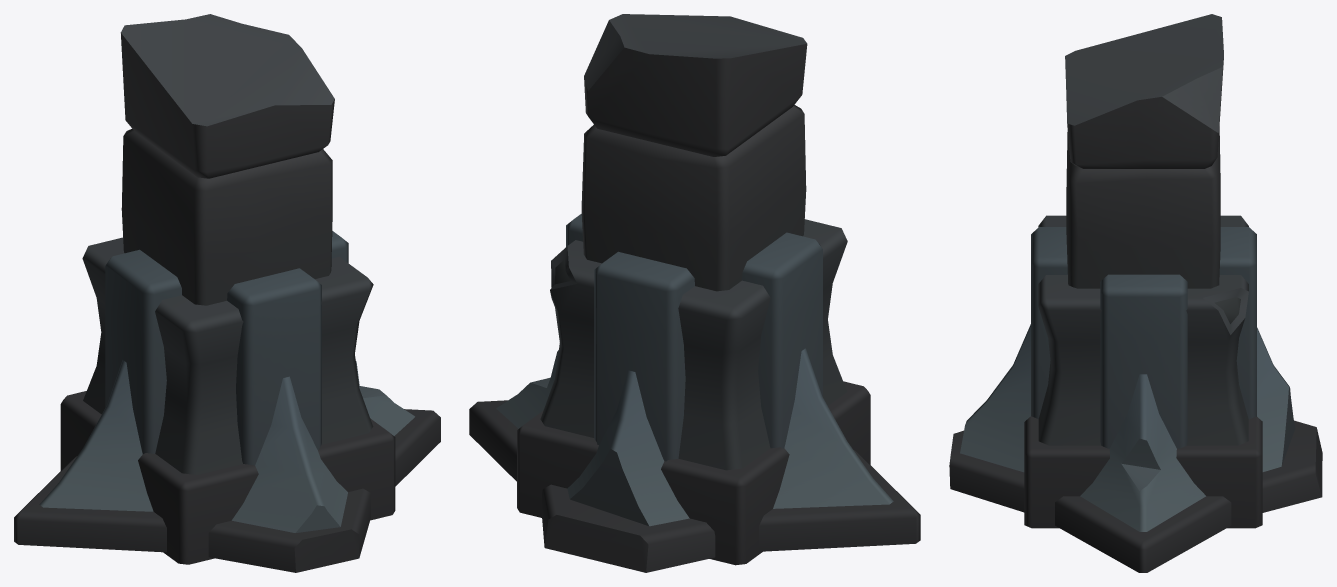
File: inferno-column-big-broken-001.glb
3 views of the same model, side by side, from view 1: azimuth 30°, elevation 25°; view 2: azimuth 150°, elevation 25°; view 3: azimuth 270°, elevation 25° (orthographic). The views are drawn at different scales.
Parts seen in each view (by area): view 1: ColumnBigBroken_001; view 2: ColumnBigBroken_001; view 3: ColumnBigBroken_001.
Boxes of the visible parts, left/top/right/bottom form: ColumnBigBroken_001: left=14, top=14, right=440, bottom=572; ColumnBigBroken_001: left=469, top=14, right=920, bottom=572; ColumnBigBroken_001: left=949, top=14, right=1322, bottom=572.
Bounding box in the file's own units: 4.52 × 4.64 × 3.64.
Materials: 1 (1 with a texture image).
